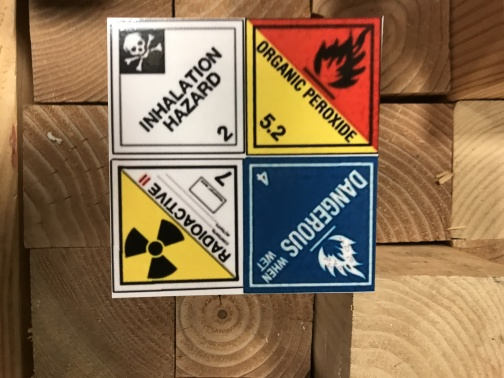DangerousWhenWet: (244, 156, 377, 292)
InhalationHazard: (106, 17, 244, 156)
OrganicPeroxide: (247, 17, 383, 154)
Radioactive: (110, 160, 243, 290)
